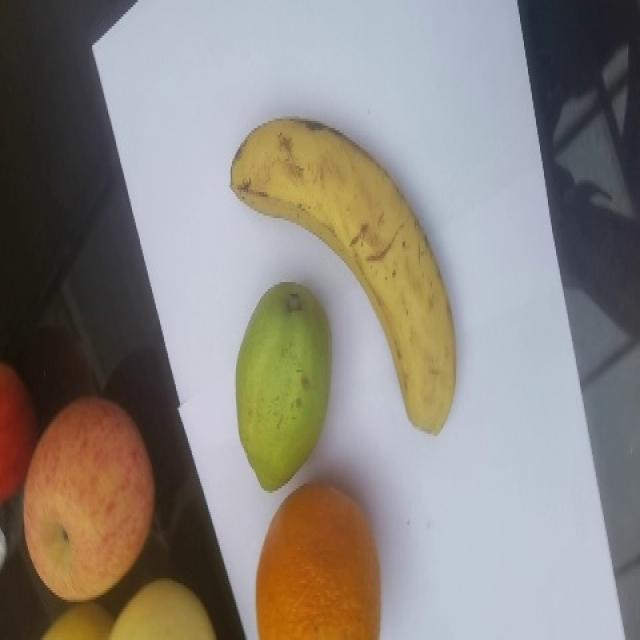Apple: (22, 395, 156, 602), (0, 361, 38, 504)
Banana: (229, 116, 456, 435)
Orange: (255, 482, 381, 639)
